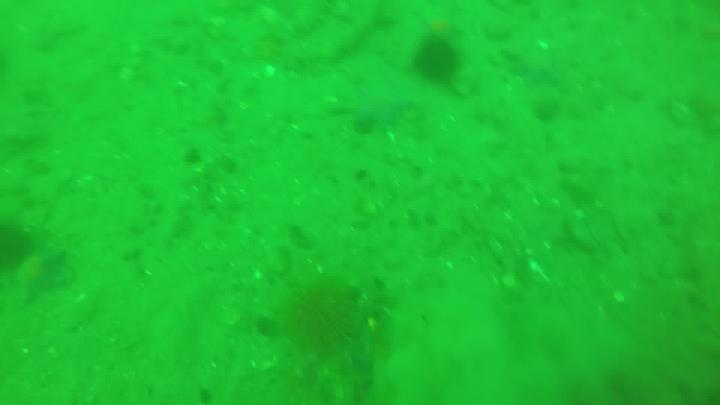echinus: (290, 283, 364, 343), (410, 35, 458, 78), (1, 223, 34, 273)
starfish: (358, 84, 416, 129), (508, 49, 559, 84)
